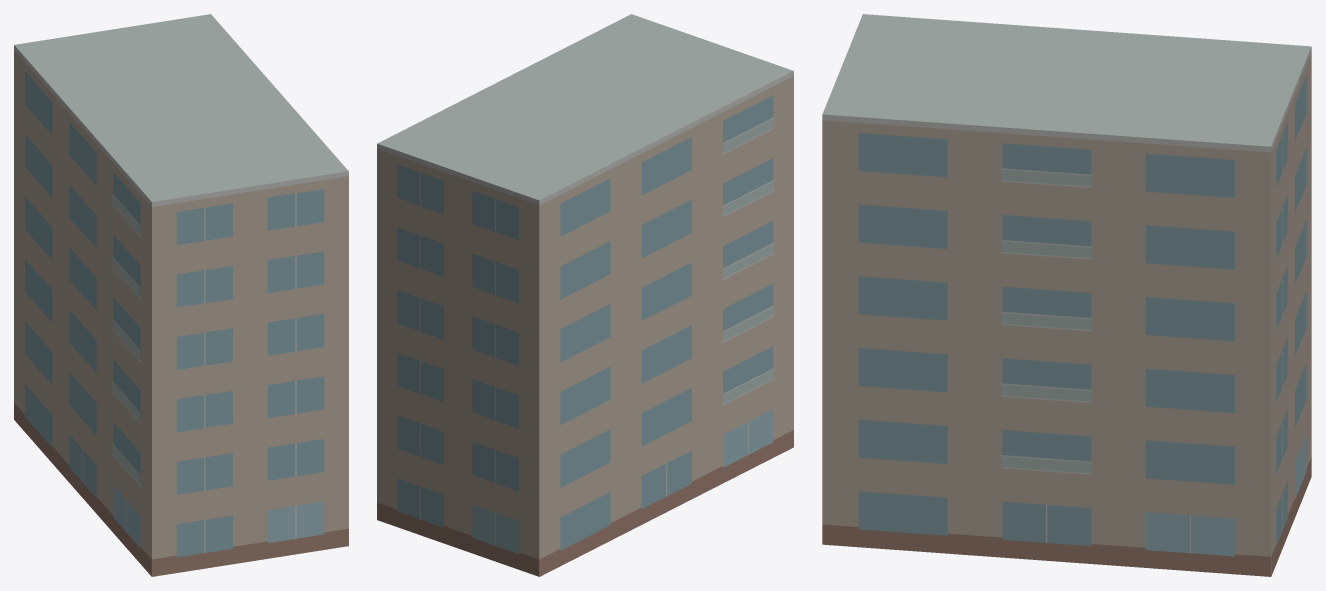
The model's file is survey-upis-32983260.glb.
The picture shows the model from 3 angles, left to right: view 1: azimuth 30°, elevation 25°; view 2: azimuth 150°, elevation 25°; view 3: azimuth 270°, elevation 25°; orthographic projection. The views are drawn at different scales.
Parts seen in each view (by area): view 1: survey-upis-32983260.tmp; view 2: survey-upis-32983260.tmp; view 3: survey-upis-32983260.tmp.
Boxes of the visible parts, <box> form: survey-upis-32983260.tmp: <box>14,14,348,576</box>; survey-upis-32983260.tmp: <box>377,14,793,576</box>; survey-upis-32983260.tmp: <box>822,14,1311,576</box>.
Size of the model in its own units: 12.12 by 18.3 by 18.87.
